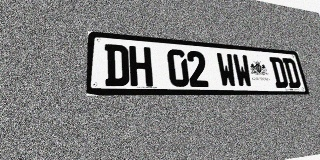0: (167, 49, 190, 87)
2: (186, 50, 209, 87)
D: (105, 44, 130, 86), (269, 57, 289, 88), (282, 58, 302, 88)
H: (129, 46, 153, 87)
W: (216, 53, 238, 87), (232, 54, 253, 87)
